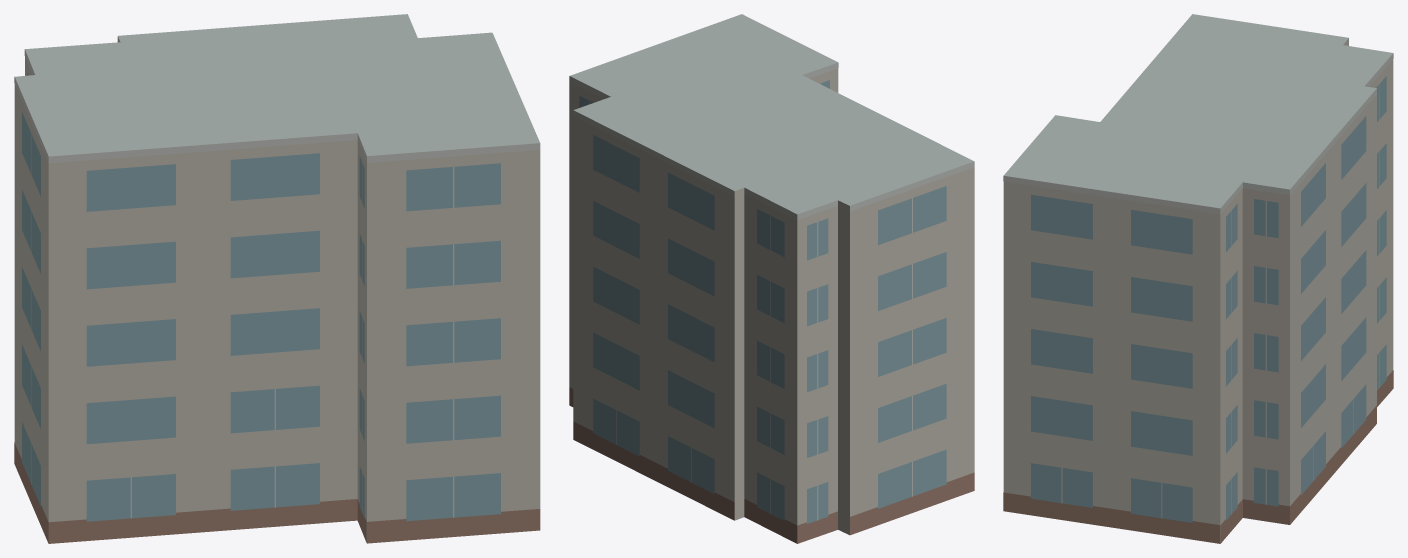
The model's file is survey-upis-32771931.glb.
The picture shows the model from 3 angles, left to right: view 1: azimuth 30°, elevation 25°; view 2: azimuth 150°, elevation 25°; view 3: azimuth 270°, elevation 25°; orthographic projection. The views are drawn at different scales.
Visible parts, largest first — view 1: survey-upis-32771931.tmp; view 2: survey-upis-32771931.tmp; view 3: survey-upis-32771931.tmp.
Part boxes in pixels (left/top/right/bottom): survey-upis-32771931.tmp: left=14, top=14, right=540, bottom=543; survey-upis-32771931.tmp: left=569, top=14, right=974, bottom=543; survey-upis-32771931.tmp: left=1003, top=14, right=1393, bottom=543.
Size of the model in its own units: 17.53 by 14.1 by 14.87.
